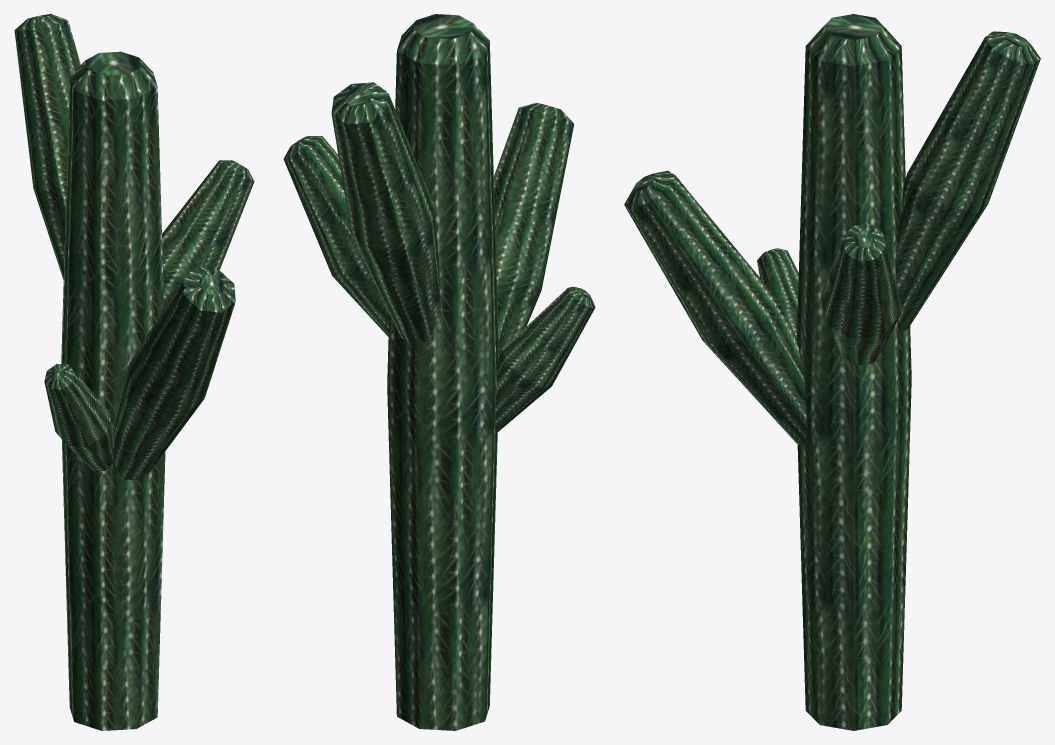
The model's file is cactus_5.fbx.
The picture shows the model from 3 angles, left to right: view 1: azimuth 30°, elevation 25°; view 2: azimuth 150°, elevation 25°; view 3: azimuth 270°, elevation 25°; orthographic projection. The views are drawn at different scales.
Visible parts, largest first — view 1: Cylinder; view 2: Cylinder; view 3: Cylinder.
Boxes of the visible parts, bbox=[...] form: Cylinder: bbox=[14, 14, 254, 730]; Cylinder: bbox=[283, 14, 595, 730]; Cylinder: bbox=[624, 14, 1040, 730].
Size of the model in its own units: 252 by 632 by 349.
Materials: 1 (1 with a texture image).
